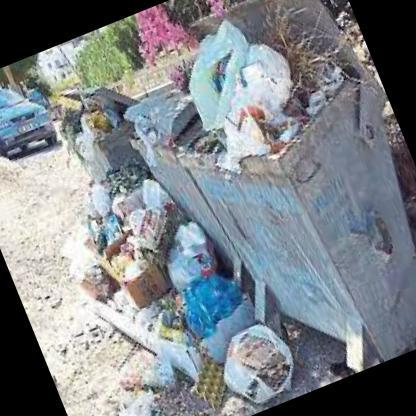Garbage: (30, 158, 210, 355), (154, 0, 327, 180), (193, 32, 316, 168), (147, 262, 269, 380), (166, 15, 275, 139), (210, 312, 318, 412), (71, 168, 145, 258), (112, 172, 184, 260), (148, 210, 226, 288), (169, 266, 244, 341), (47, 94, 112, 152), (43, 101, 89, 144)
